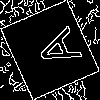A: (25, 25, 83, 75)
